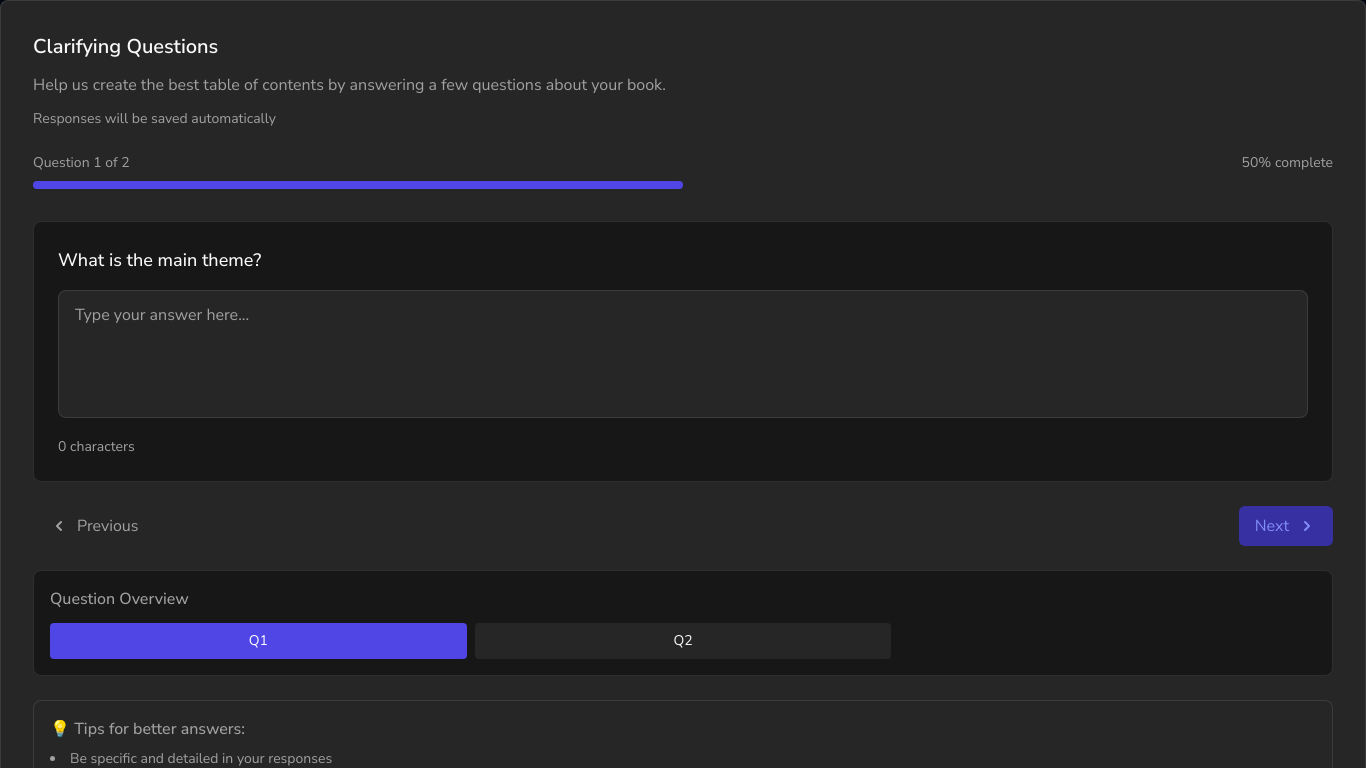
Test: ClarifyingQuestions - handleResponseChange › shows character count after typing
In the text box with placeholder "Type your answer here...": (683, 354) [58, 290, 1308, 418], type "Hello"
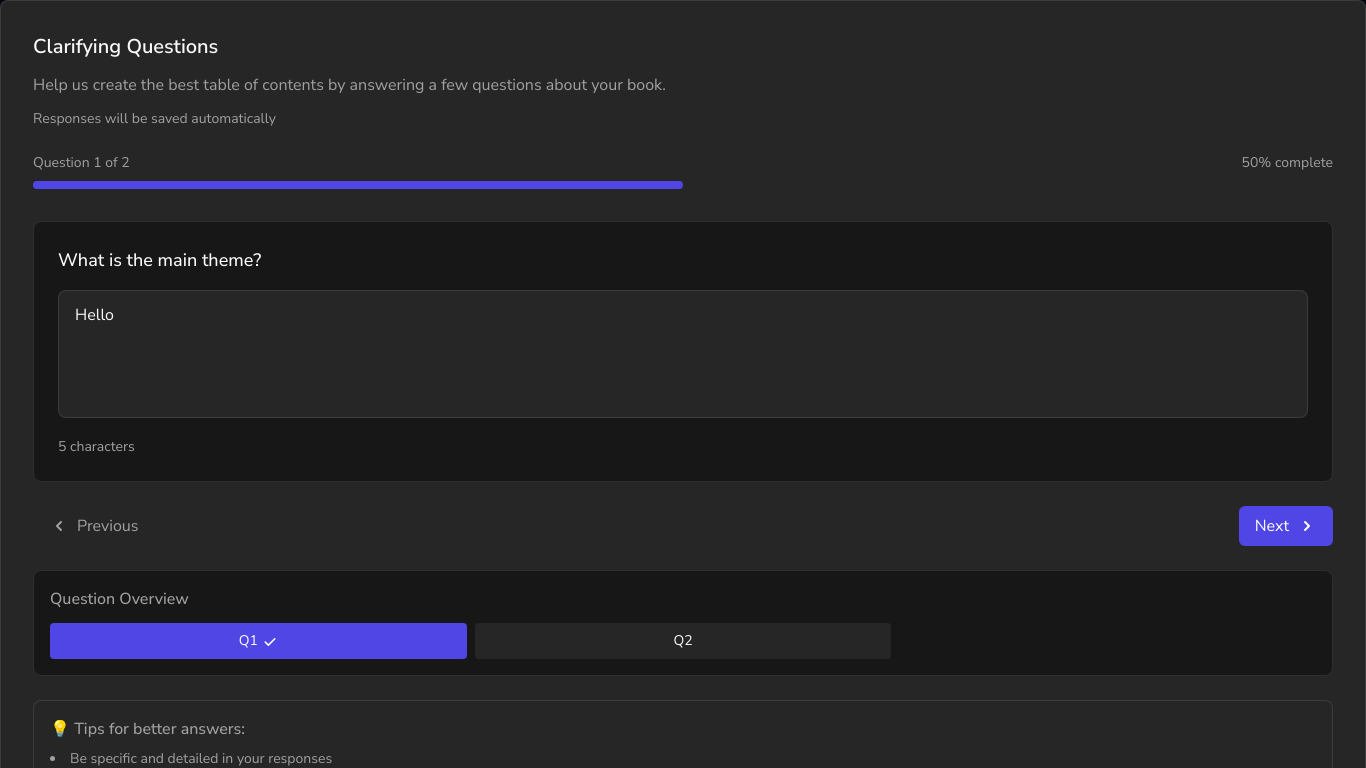
Expected: the text "5 characters" is shown, [58, 437, 135, 456]
